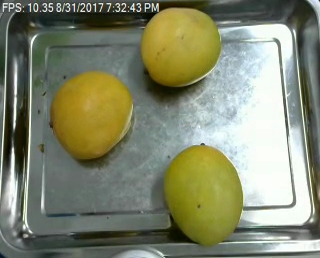Mango: (164, 146, 243, 246), (48, 71, 132, 160), (141, 7, 220, 87)
